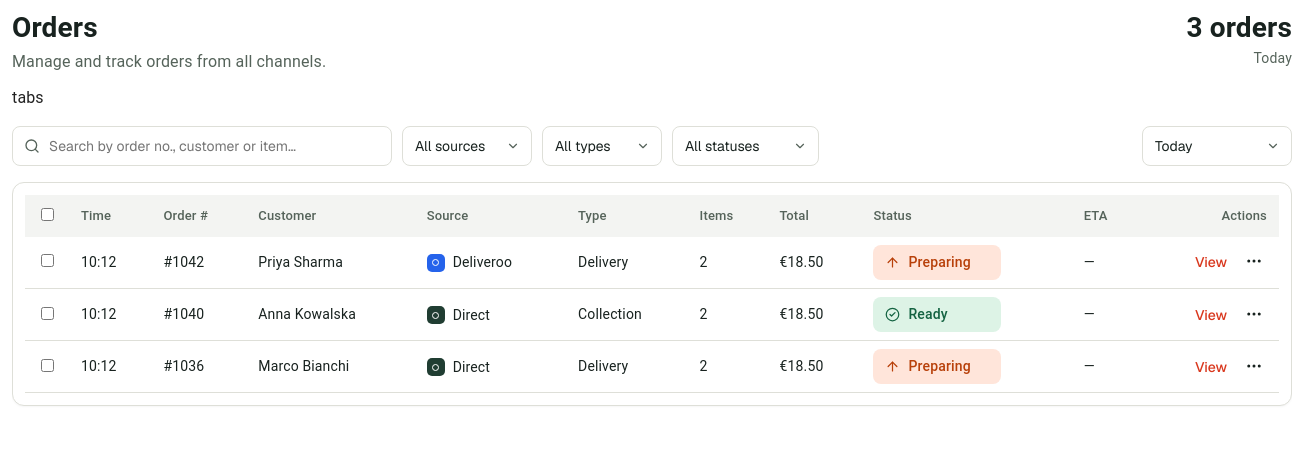
it: OrdersTab › selects rows and offers a bulk urgent action
Click the checkbox named "Select order 1042": (48, 261) x1=41 y1=254 x2=54 y2=267
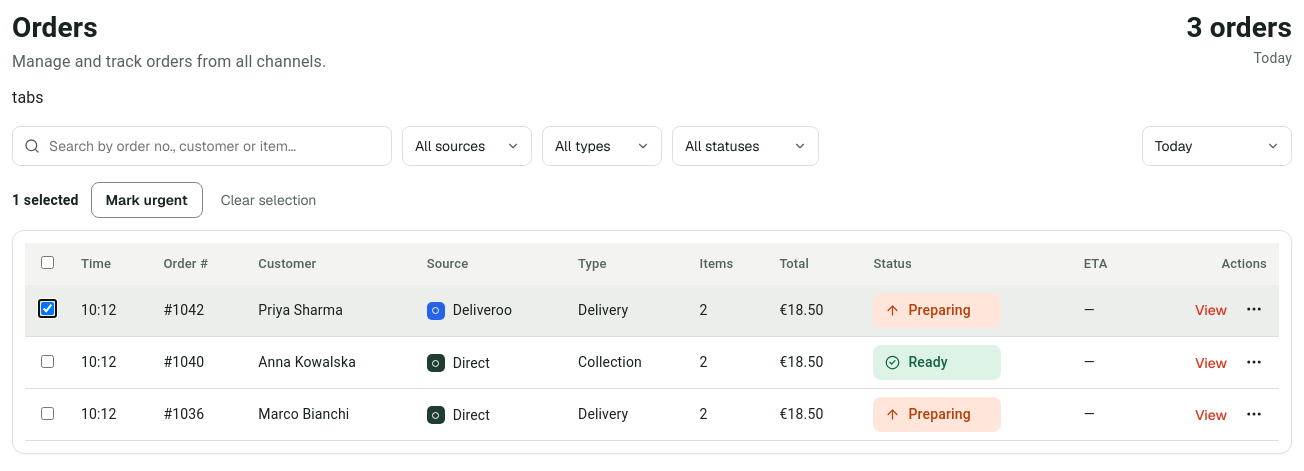
Now the text "1 selected" is shown, box x1=12 y1=190 x2=79 y2=211
Now the button "Mark urgent" is shown, box x1=91 y1=182 x2=203 y2=218
